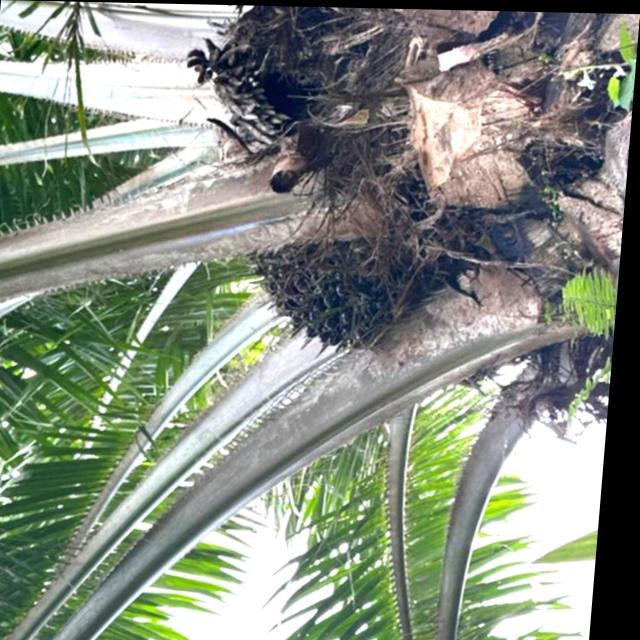unripe: (237, 207, 461, 361)
